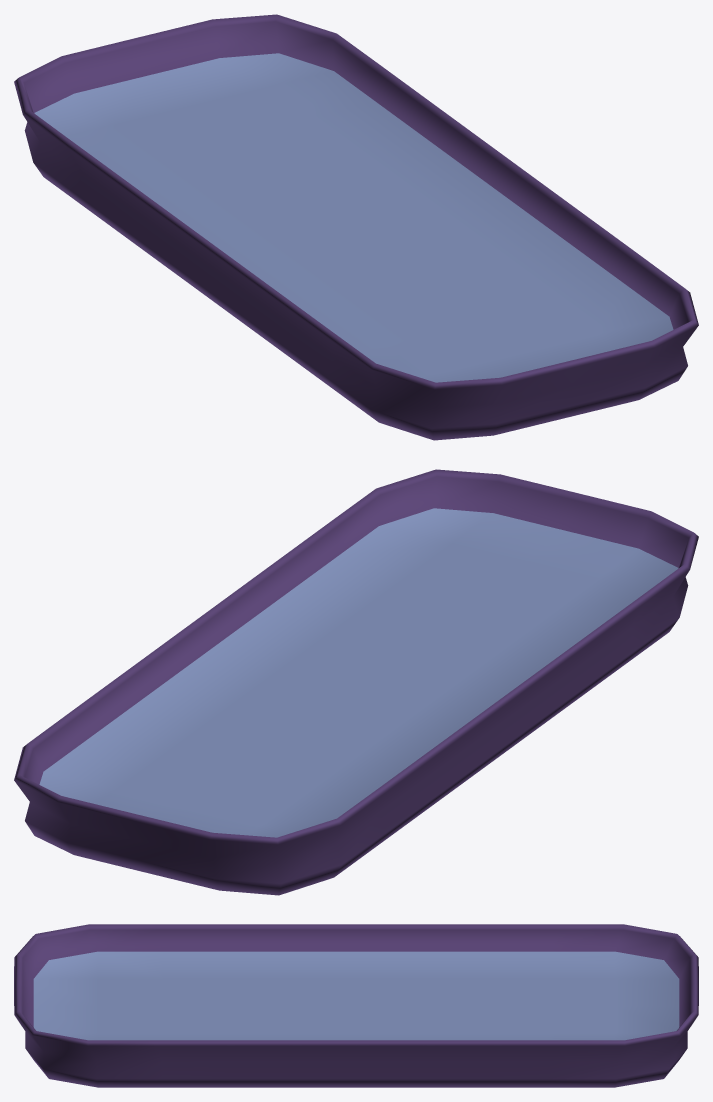
The model's file is frame_01_model.fbx.
3 renders of one model, top to bottom at view 1: azimuth 30°, elevation 25°; view 2: azimuth 150°, elevation 25°; view 3: azimuth 270°, elevation 25°, orthographic. The views are drawn at different scales.
Visible parts, largest first — view 1: frame_01_mesh; view 2: frame_01_mesh; view 3: frame_01_mesh.
Part boxes in pixels (<box>): frame_01_mesh: <box>14,14,698,440</box>; frame_01_mesh: <box>14,469,698,895</box>; frame_01_mesh: <box>14,924,698,1087</box>.
Size of the model in its own units: 4.39 by 0.8666 by 10.61.
